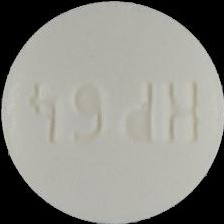66267-147: (0, 0, 224, 224)
